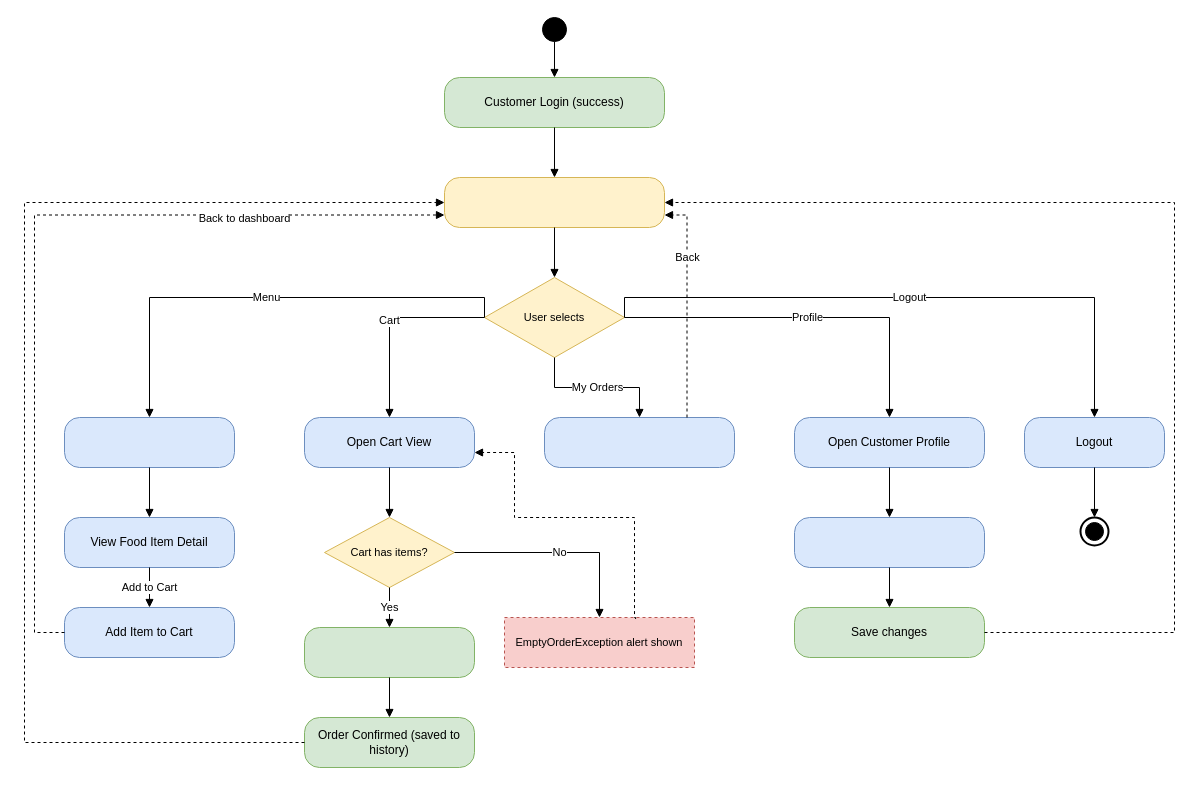
The diagram is 1200 pixels wide and 785 high, and some of its shapes have lost their labels. Here are the shapes that lost their labels. From the top down, the centre of each, then its label:
(x=554, y=202): Display Customer Dashboard
(x=149, y=442): Browse Food Menu
(x=639, y=442): View My Orders (order history & status)
(x=889, y=542): Edit profile fields
(x=389, y=652): Place Order
